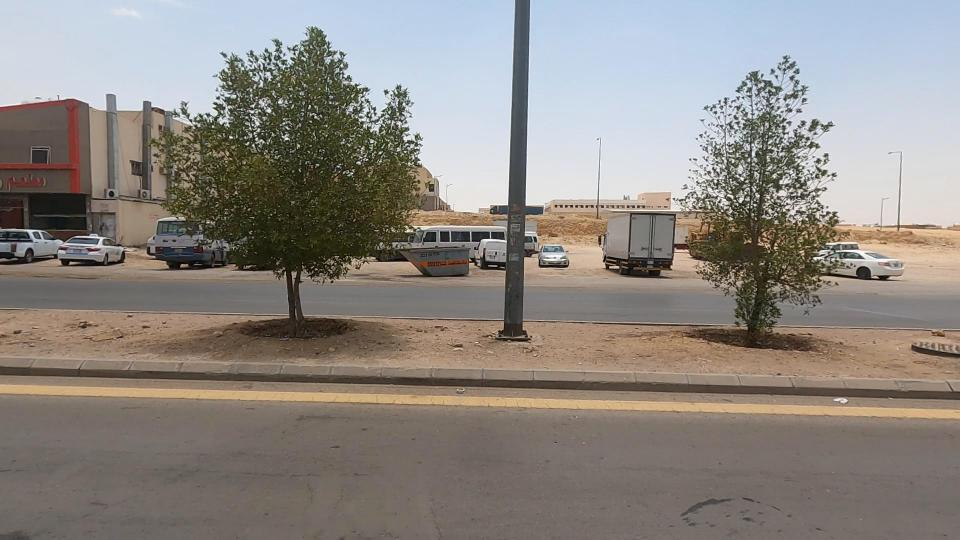CLUTTER_SIDEWALK: (0, 243, 297, 449)
GARBAGE: (41, 302, 166, 371), (808, 381, 869, 423)
